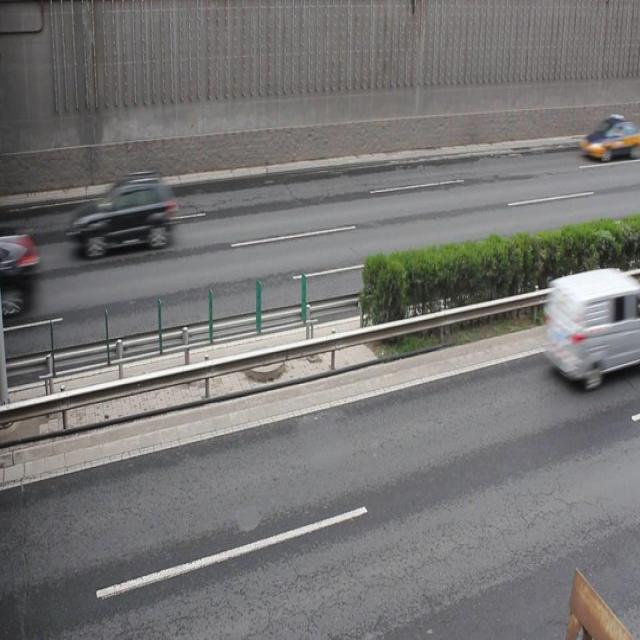car: (73, 170, 175, 260), (578, 115, 632, 161)
truck: (540, 268, 640, 388)
